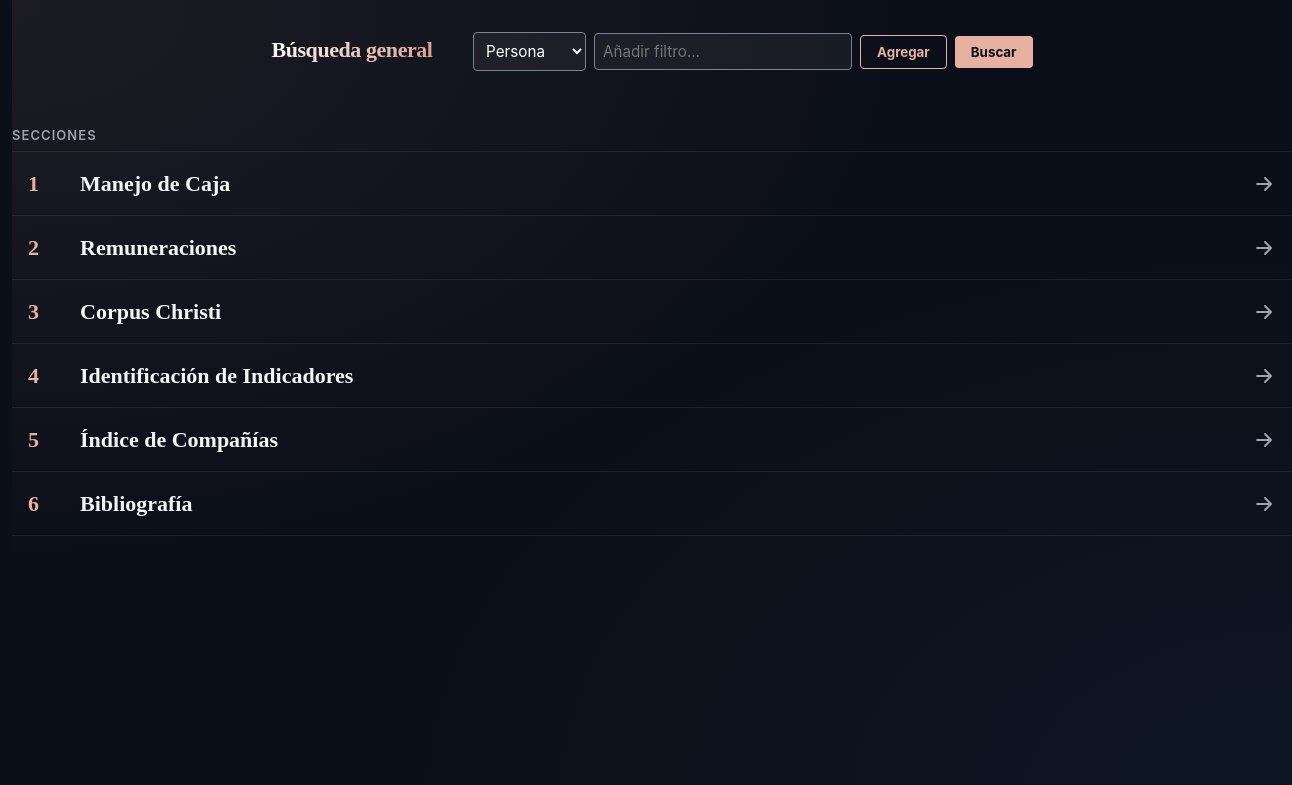
Búsqueda general: texto de los resultados › administrador: «Nro.» en lugar de «Num»
The image size is (1292, 785).
Expected: the heading "Búsqueda general" is shown, x1=272 y1=37 x2=432 y2=63
Select "Texto libre" in the dropdown. click: coordinates (530, 52)
box: x1=473 y1=32 x2=586 y2=71
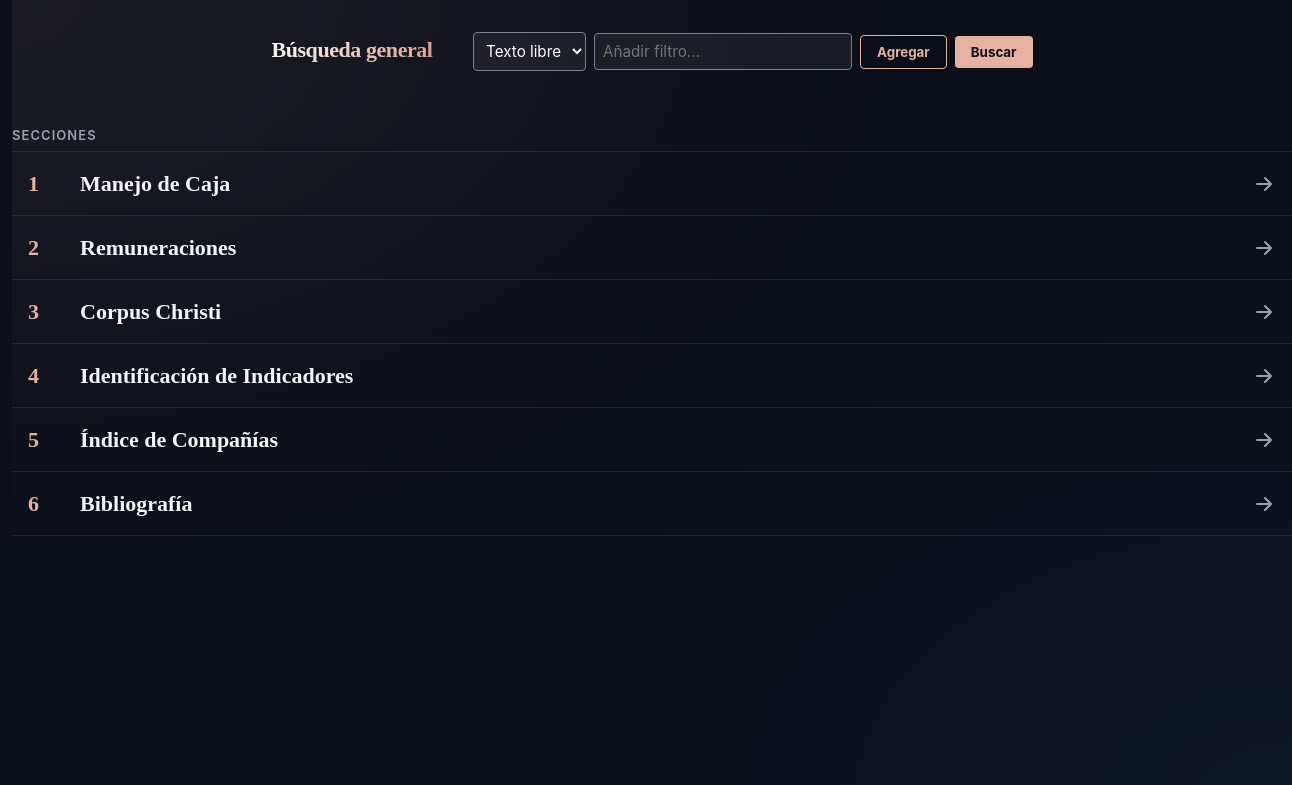
Type "Potosí" into the field with placeholder "Añadir filtro...". click: coordinates (723, 52)
box: x1=594 y1=33 x2=852 y2=70
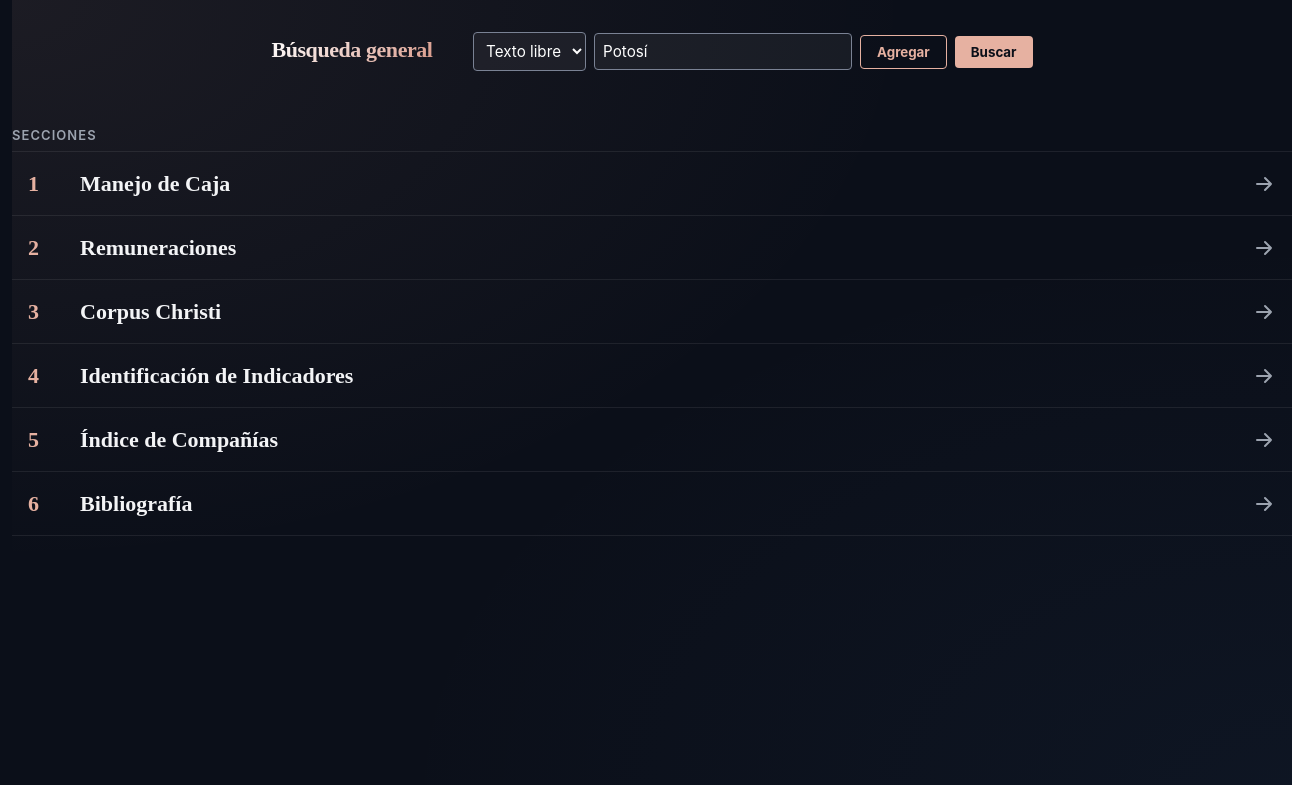
Click the button "Buscar". click: coordinates (994, 52)
box: x1=955 y1=36 x2=1032 y2=68
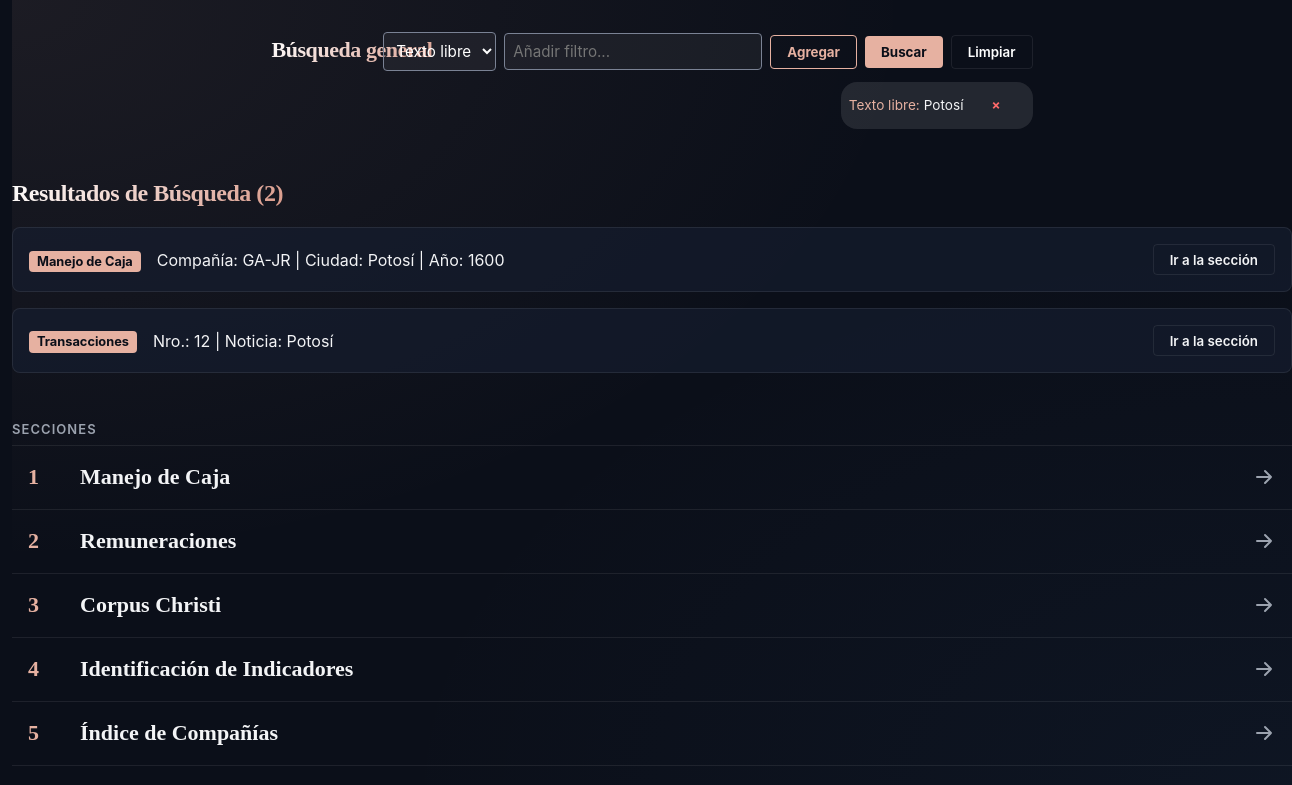
Result: the heading "Resultados de Búsqueda (2)" is shown at x1=12 y1=180 x2=283 y2=208
Result: the text "Nro.: 12 | Noticia: Potosí" is shown at x1=153 y1=330 x2=333 y2=350
